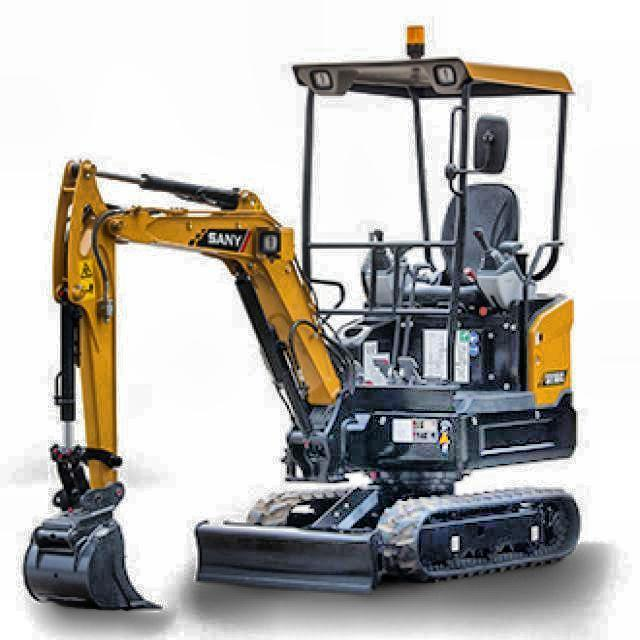excavator: (21, 22, 586, 613)
